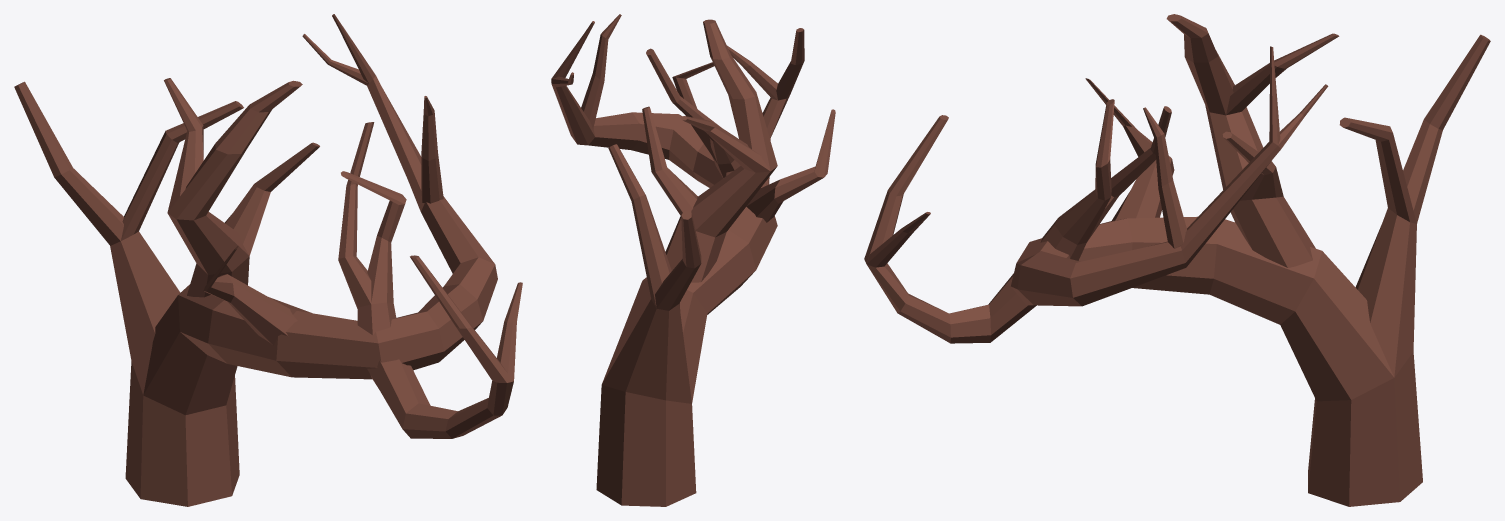
The model's file is bosje.fbx.
The picture shows the model from 3 angles, left to right: view 1: azimuth 30°, elevation 25°; view 2: azimuth 150°, elevation 25°; view 3: azimuth 270°, elevation 25°; orthographic projection. The views are drawn at different scales.
Visible parts, largest first — view 1: Cylinder; view 2: Cylinder; view 3: Cylinder.
Boxes of the visible parts, <box> form: Cylinder: <box>14,14,522,506</box>; Cylinder: <box>551,14,835,506</box>; Cylinder: <box>864,14,1490,506</box>.
Size of the model in its own units: 79.94 by 128 by 148.
